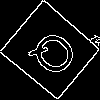Q: (25, 25, 88, 87)
